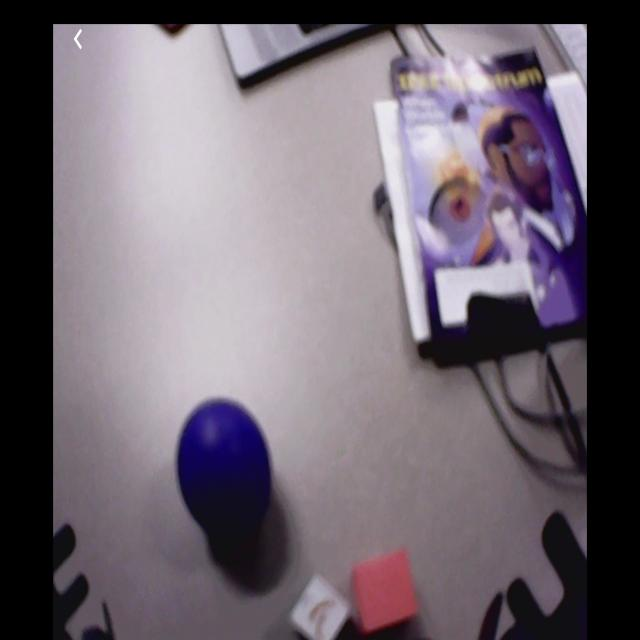ball: (178, 402, 274, 530)
